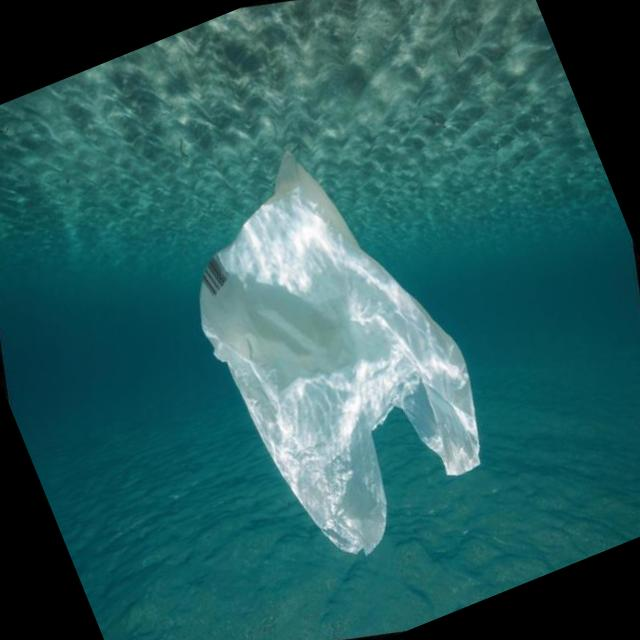KantongPlastik: (149, 117, 520, 582)
